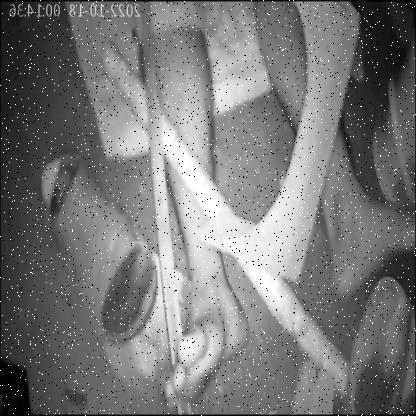leg: (133, 31, 257, 414), (308, 131, 416, 307)
